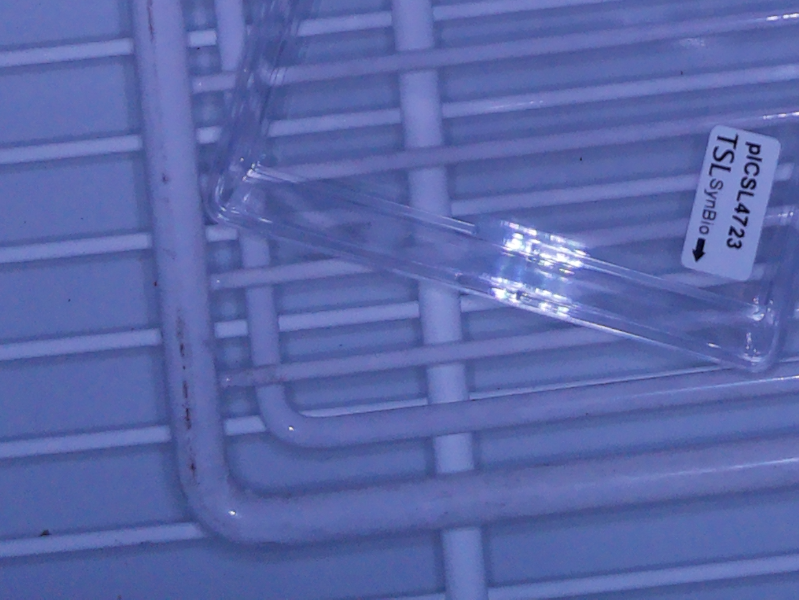plate: (201, 1, 799, 377)
